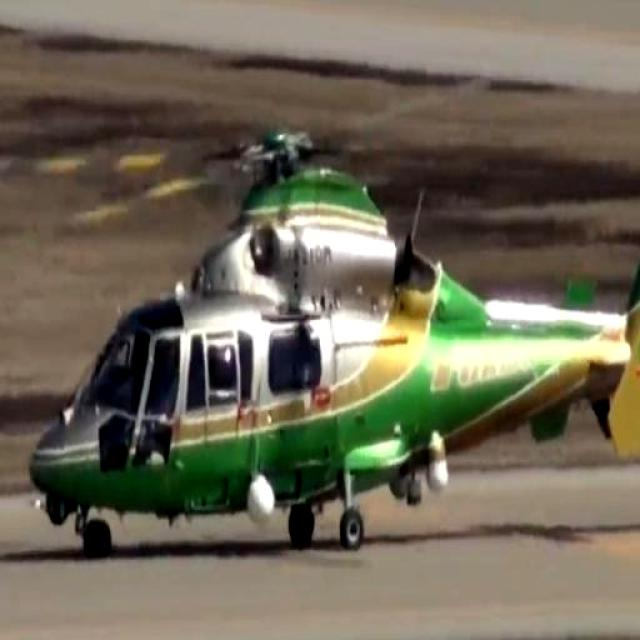drone: (24, 6, 640, 596)
